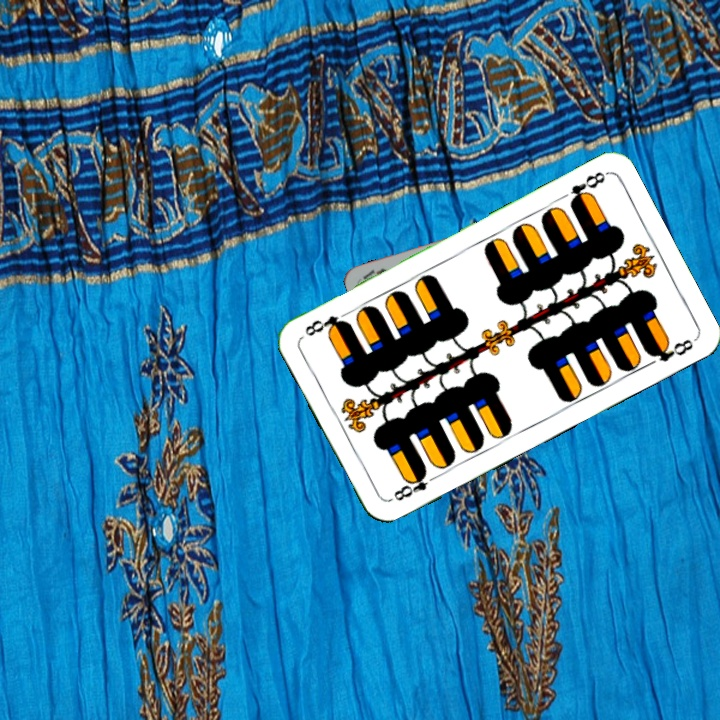E8: (386, 466, 441, 504), (565, 167, 609, 209)
